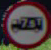Heavy Vehicles: (6, 2, 44, 39)
